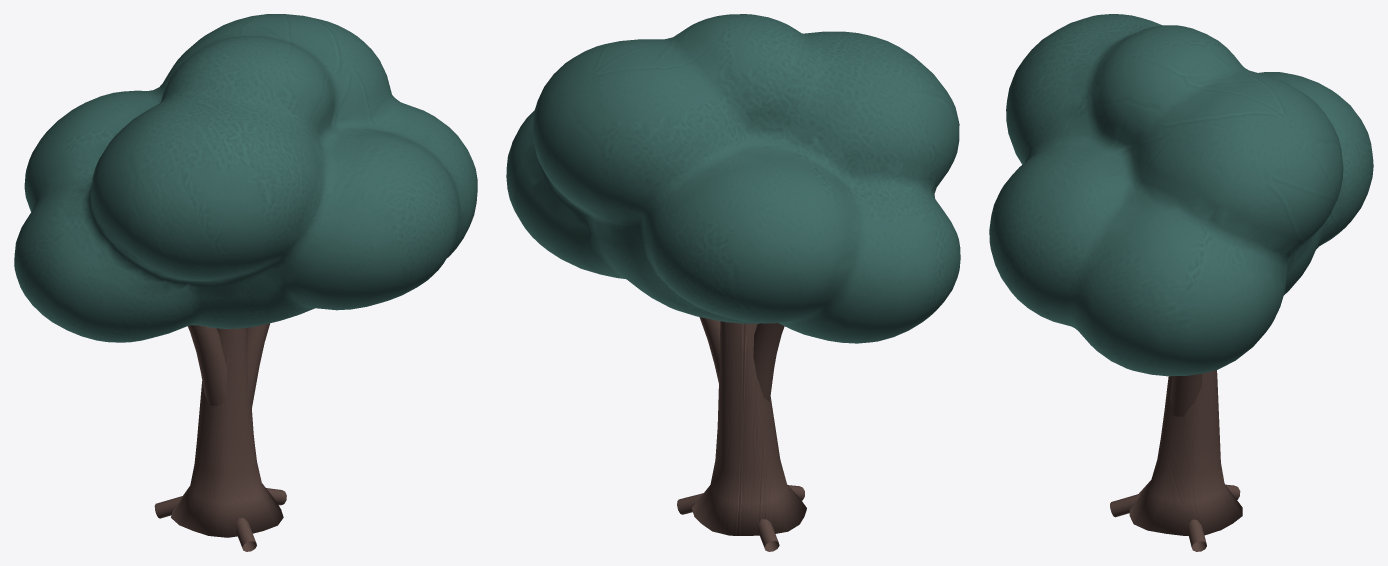
The picture shows the model from 3 angles, left to right: view 1: azimuth 30°, elevation 25°; view 2: azimuth 150°, elevation 25°; view 3: azimuth 270°, elevation 25°; orthographic projection. The views are drawn at different scales.
Parts seen in each view (by area): view 1: Canopy, Trunk; view 2: Canopy, Trunk; view 3: Canopy, Trunk.
Boxes of the visible parts, x1=… form: Canopy: x1=14, y1=14, x2=477, y2=342; Trunk: x1=154, y1=323, x2=286, y2=551; Canopy: x1=506, y1=14, x2=960, y2=343; Trunk: x1=677, y1=317, x2=806, y2=551; Canopy: x1=989, y1=14, x2=1373, y2=376; Trunk: x1=1110, y1=370, x2=1242, y2=551.
Size of the model in its own units: 4.15 by 4.44 by 3.15.
Materials: 2 (2 with a texture image).
